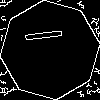I: (25, 25, 72, 45)
